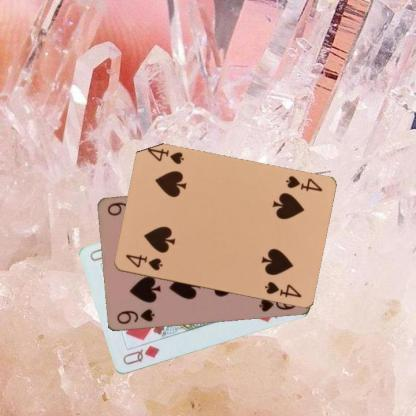4s: (122, 252, 164, 272), (282, 173, 324, 193)
9s: (114, 306, 156, 326)
Qd: (120, 342, 161, 367)
